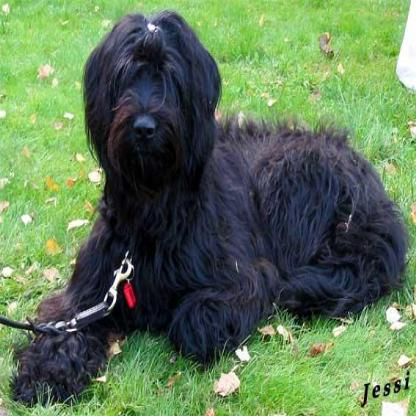briard: (6, 10, 412, 404)
